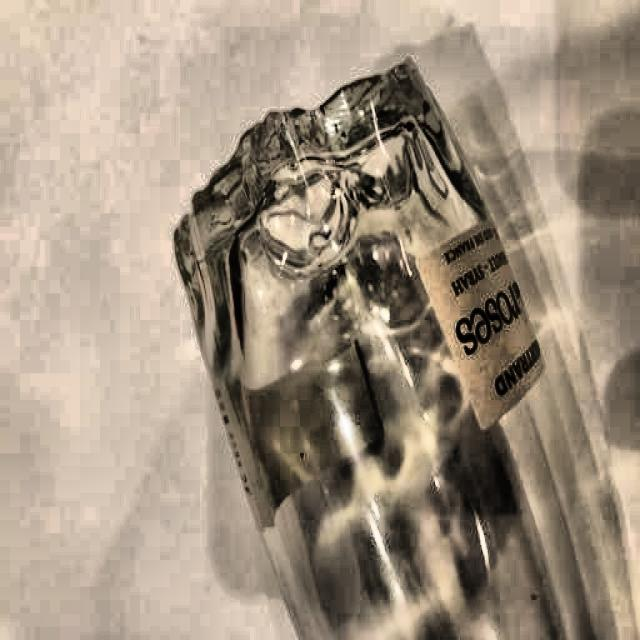glass: (166, 56, 572, 640)
